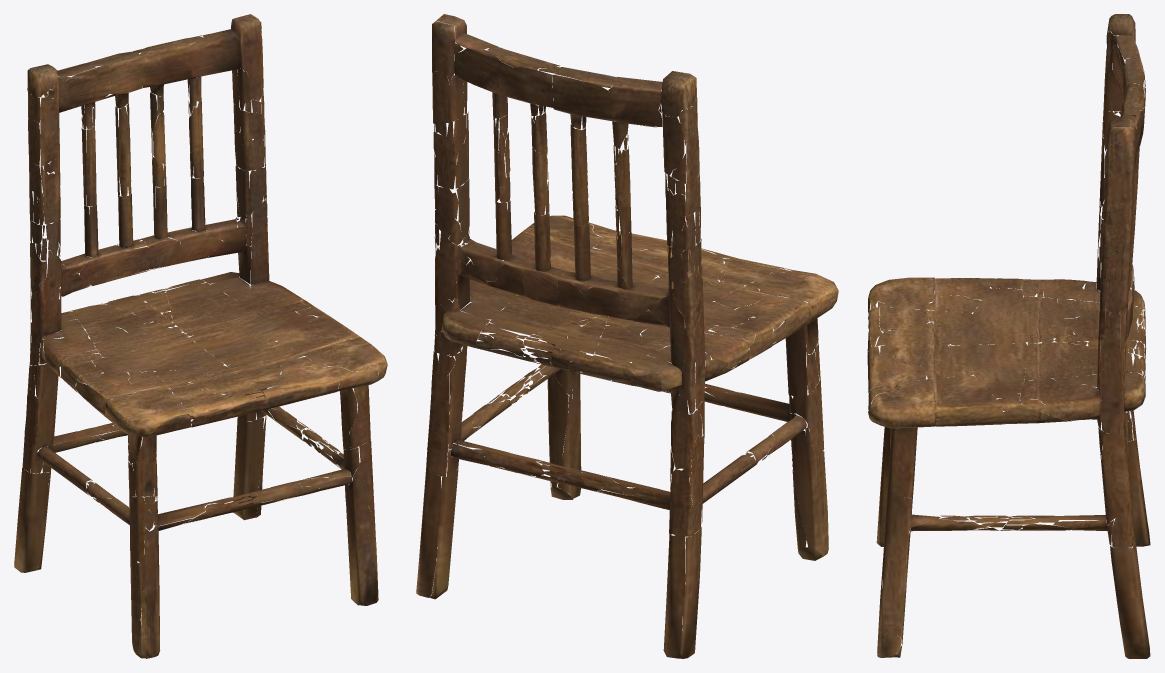
Rendered from ch7_chair.glb.
3 renders of one model, left to right at view 1: azimuth 30°, elevation 25°; view 2: azimuth 150°, elevation 25°; view 3: azimuth 270°, elevation 25°, orthographic. The views are drawn at different scales.
Visible parts, largest first — view 1: prop_chair; view 2: prop_chair; view 3: prop_chair.
Boxes of the visible parts, bbox=[...] form: prop_chair: bbox=[14, 14, 387, 658]; prop_chair: bbox=[416, 14, 838, 658]; prop_chair: bbox=[867, 14, 1150, 658].
Size of the model in its own units: 0.5337 by 0.9794 by 0.4745.
1 material, 1 textured.
